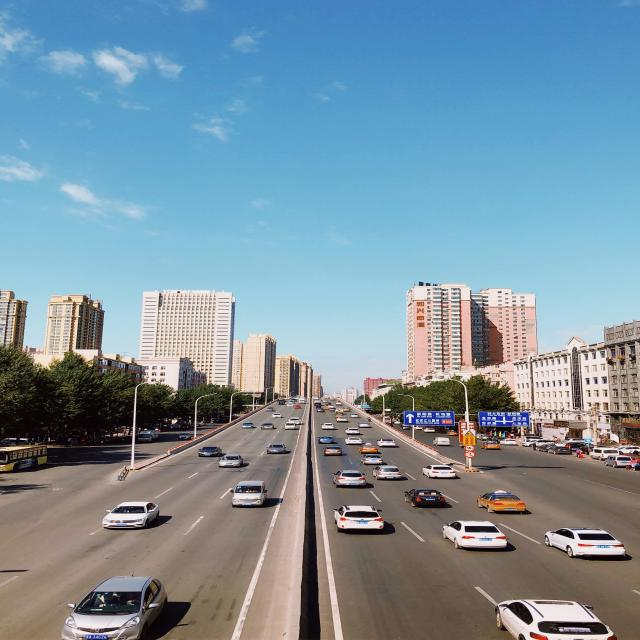Bus: (0, 443, 48, 472)
Car: (61, 574, 168, 640), (494, 599, 617, 640), (543, 527, 626, 558), (442, 520, 508, 550), (101, 501, 160, 529), (332, 505, 384, 531), (476, 490, 526, 513), (231, 480, 268, 507), (403, 488, 446, 508), (332, 470, 366, 487), (421, 464, 457, 478), (372, 465, 402, 480), (218, 454, 243, 468), (198, 446, 222, 457), (360, 454, 383, 465), (266, 443, 287, 454), (359, 443, 379, 454), (323, 446, 343, 456), (432, 437, 451, 446), (376, 439, 396, 447), (480, 441, 500, 449), (317, 436, 336, 444), (344, 437, 363, 445), (344, 427, 361, 435), (178, 432, 192, 440), (500, 439, 518, 445), (241, 422, 255, 428), (358, 422, 372, 428), (260, 423, 274, 429), (321, 423, 335, 429), (446, 430, 457, 436), (336, 417, 348, 422), (271, 414, 283, 418), (350, 414, 359, 418), (266, 408, 275, 411)
